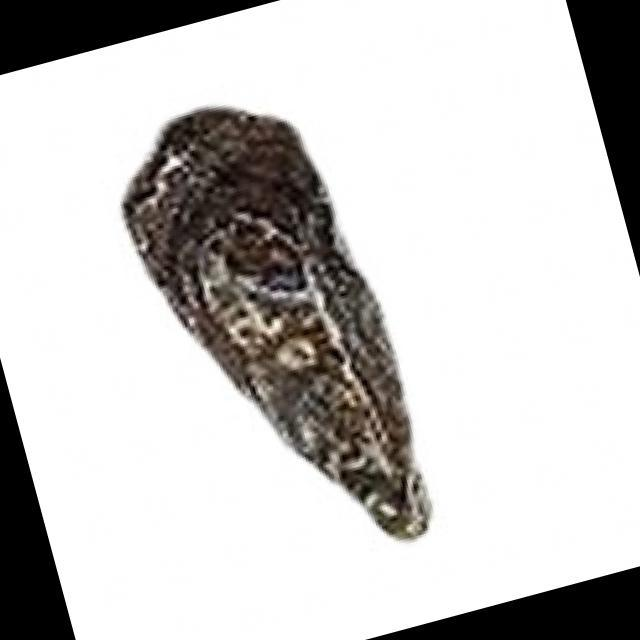Oyster- Indeterminate: (120, 108, 433, 544)
